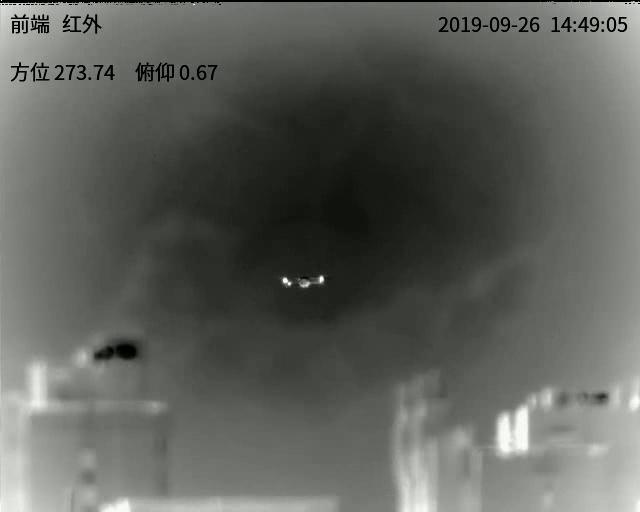DRONE: (281, 274, 324, 288)
